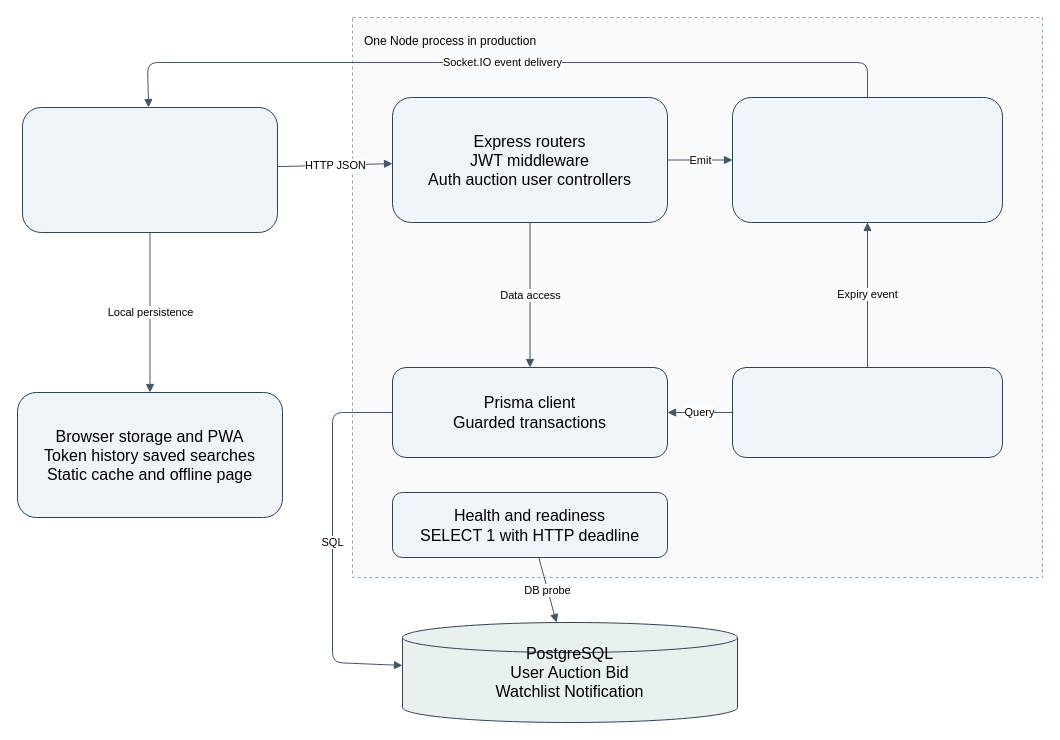
The diagram is 1060 pixels wide and 740 high, and some of its shapes have lost their labels. The centre of each missing label's shape, as x and y in pixels:
"node cron scheduler Expiry checks every 10 s" goes at (867,412).
"React UI Components and context API response utility" goes at (150,169).
"Socket.IO server Global committed updates Room join and leave handlers" goes at (867,159).
